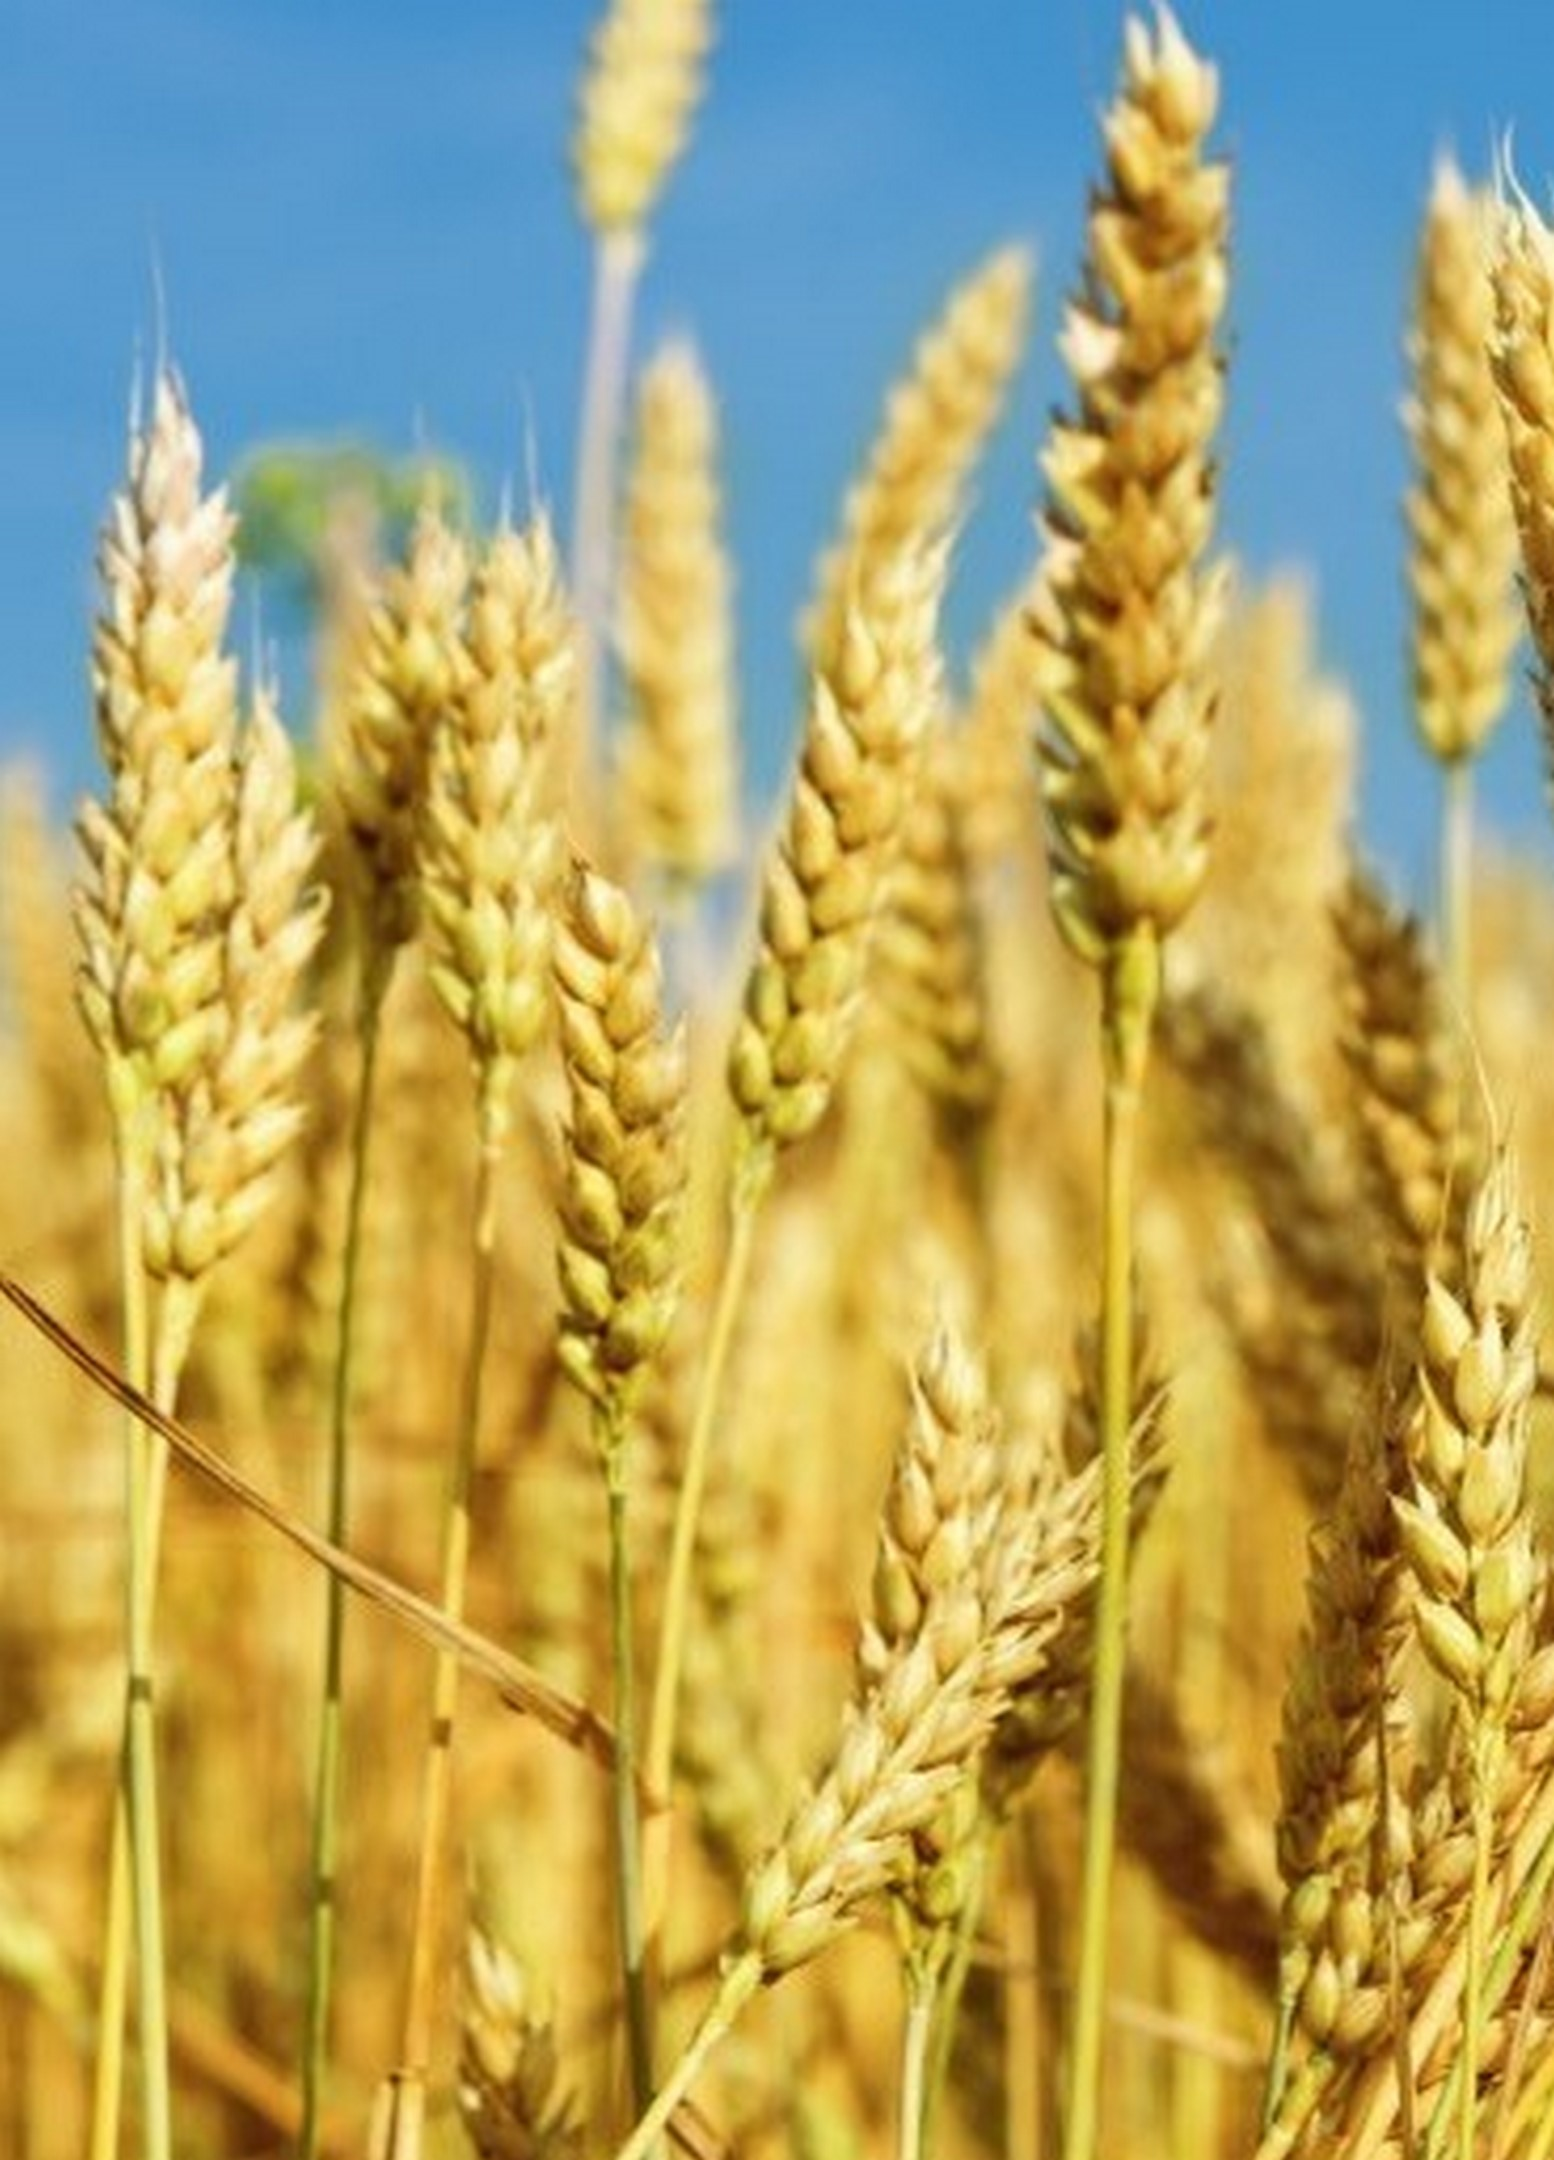Healthy Wheat: (743, 1345, 1147, 1972), (54, 345, 268, 1102), (525, 828, 716, 1482)
